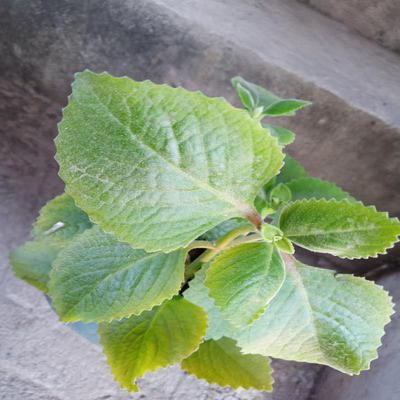Oregano: (39, 83, 377, 382)
